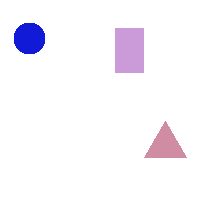circle: (14, 23, 44, 53)
rectangle: (115, 28, 143, 72)
triangle: (144, 121, 186, 157)
